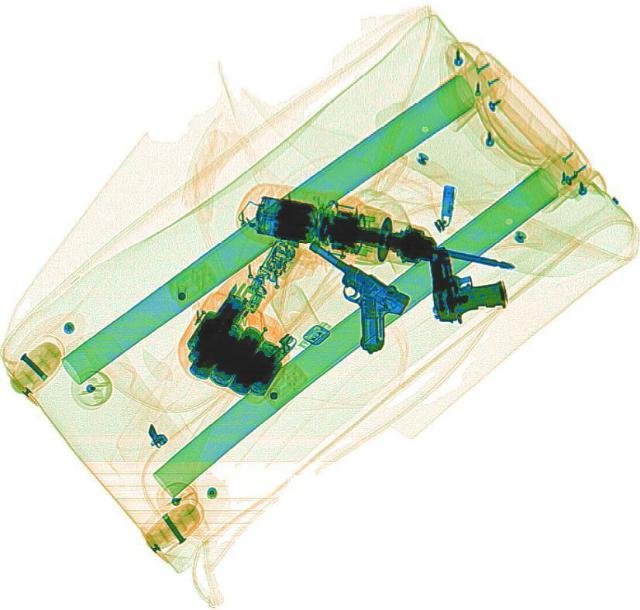Gun: (272, 235, 420, 353), (423, 237, 507, 323)
